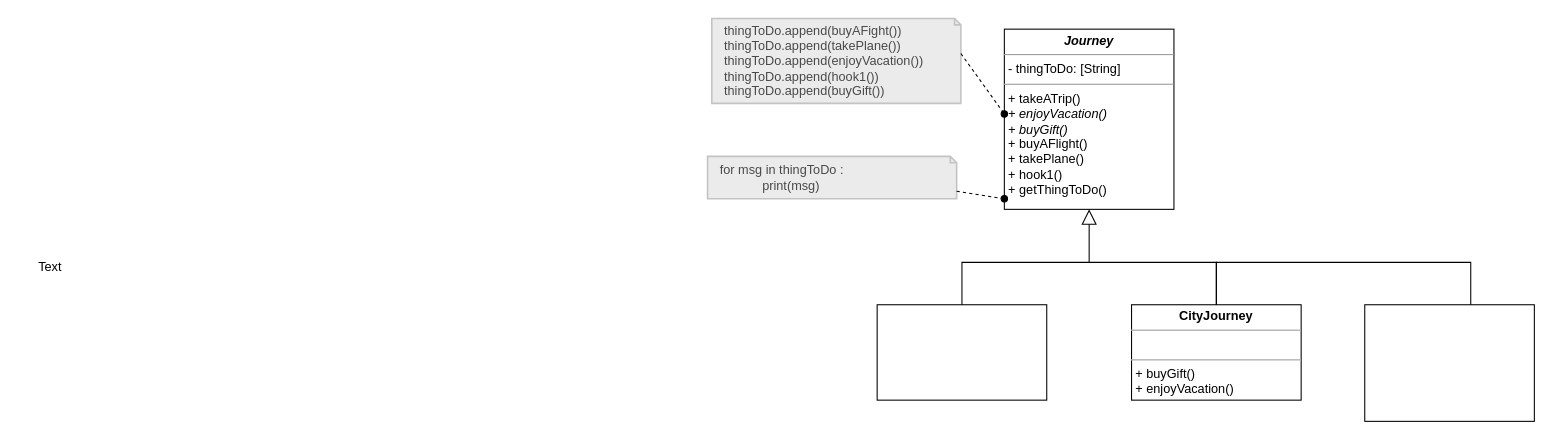
Image size: 1553x441. Some labels were removed from this diagram. Here are the shapes that lost their labels. From the top down, the centre of each, then its label:
At pixel 961 352: "BeachJourney + buyGift() + enjoyVacation()".
At pixel 1449 362: "MountainJourney + buyGift() + hook1() + enjoyVacation()".
